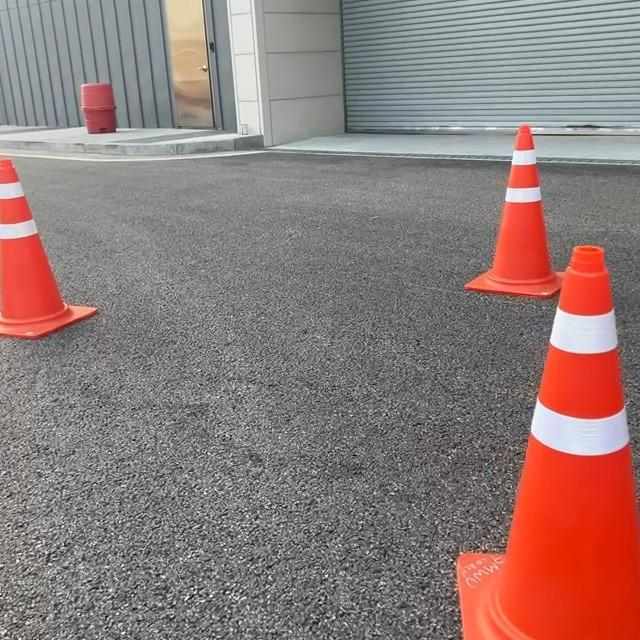fallen_object: (494, 198, 640, 640), (0, 110, 176, 383), (426, 105, 557, 261)
